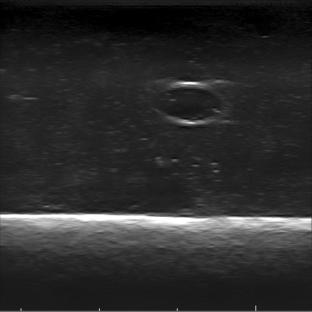vessel: (152, 81, 227, 126)
